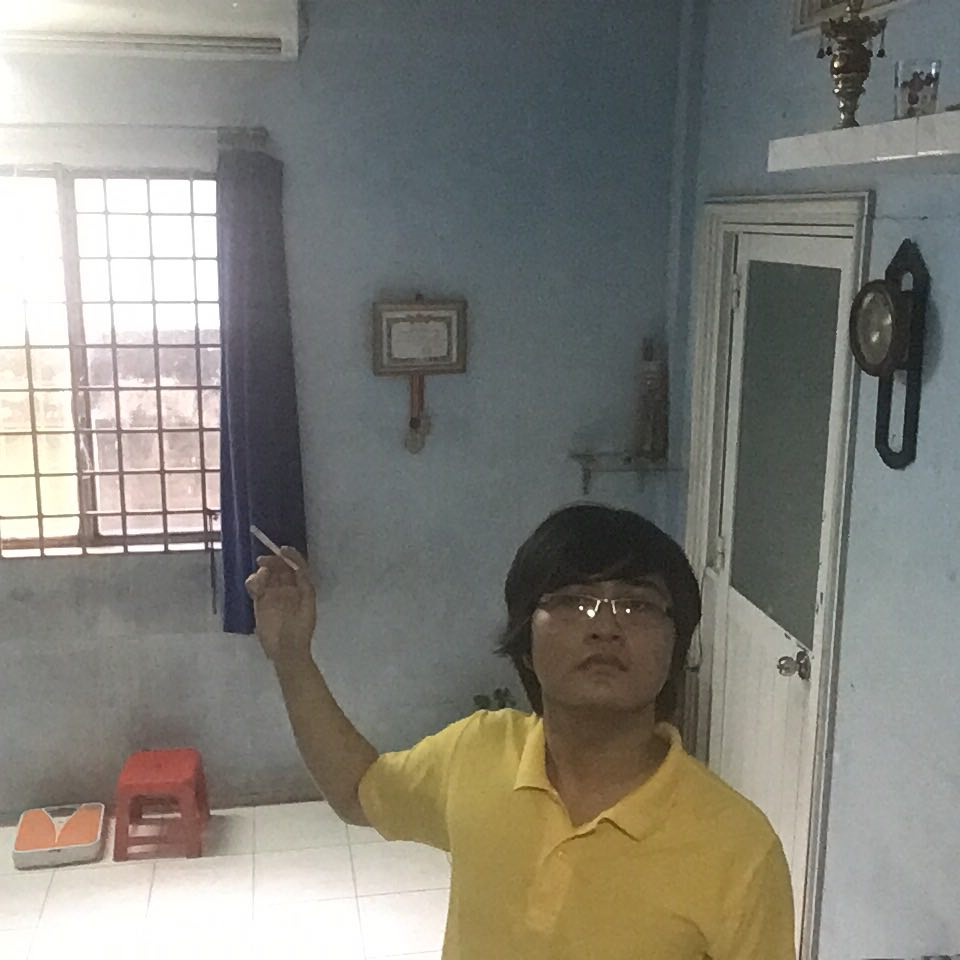cigarette: (243, 520, 281, 556)
person: (229, 501, 810, 959)
